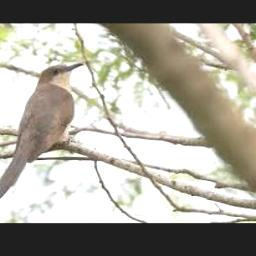Cuckoo: (0, 63, 83, 201)
